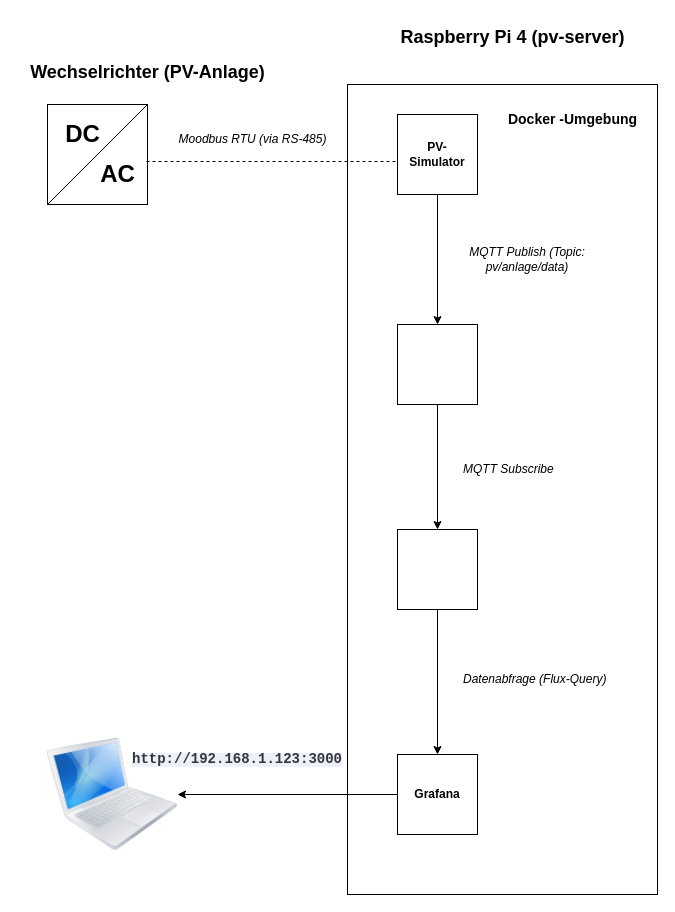
Image size: 675x912. Some labels were removed from this diagram. The box of each missing label's shape, as (x1, y1, x2, y2) in pixels:
InfluxDB: (396, 528, 478, 610)
MQTT-Broker: (396, 324, 478, 404)
